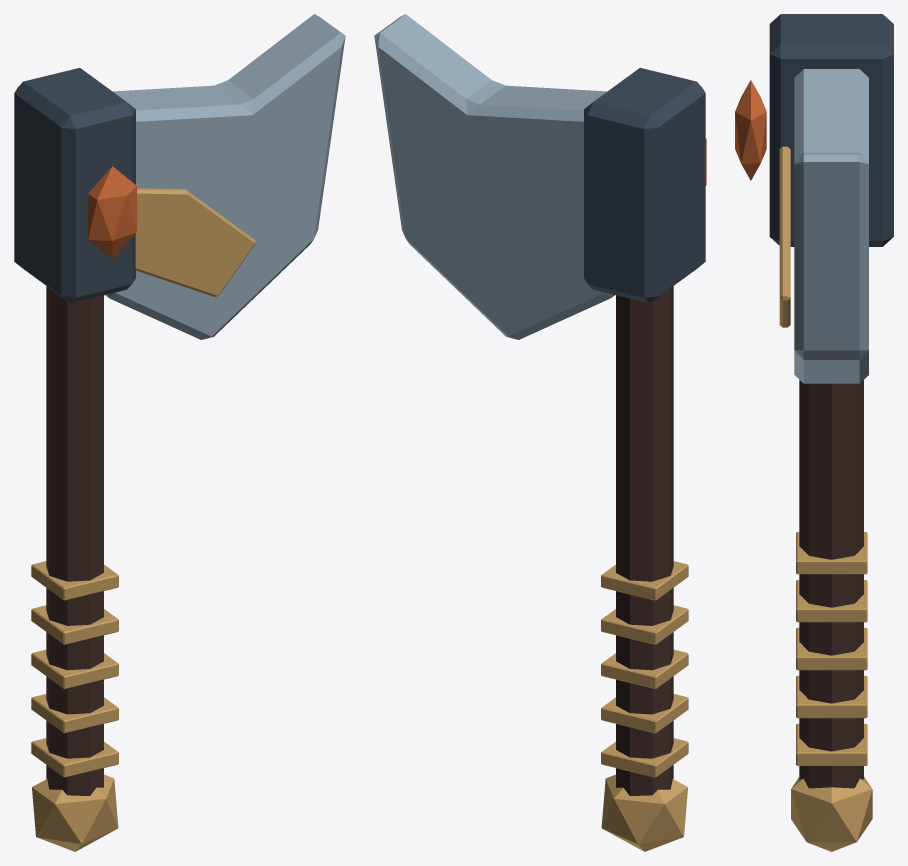
The model's file is forge-axe-v2.glb.
3 renders of one model, left to right at view 1: azimuth 30°, elevation 25°; view 2: azimuth 150°, elevation 25°; view 3: azimuth 270°, elevation 25°, orthographic. The views are drawn at different scales.
Parts seen in each view (by area): view 1: forge-axe-v2; view 2: forge-axe-v2; view 3: forge-axe-v2.
Boxes of the visible parts, x1,y1,x2,y2 form: forge-axe-v2: (14, 14, 345, 851); forge-axe-v2: (374, 14, 706, 851); forge-axe-v2: (735, 14, 893, 851).
Size of the model in its own units: 0.5964 by 1.47 by 0.2555.
